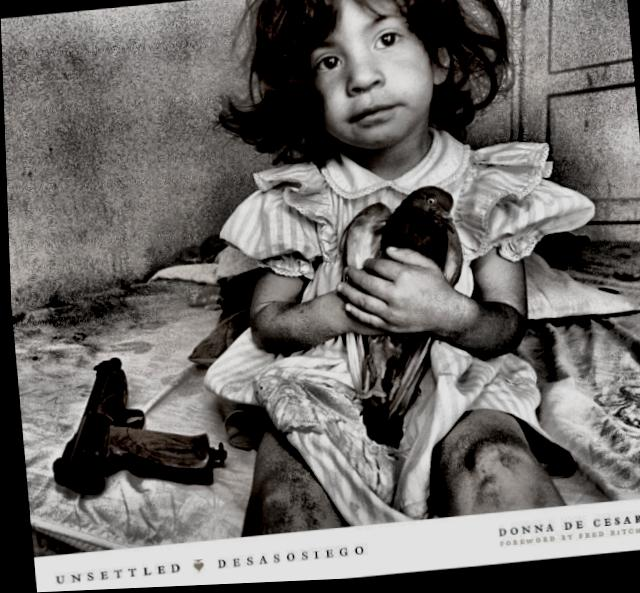pistol: (35, 332, 235, 520)
